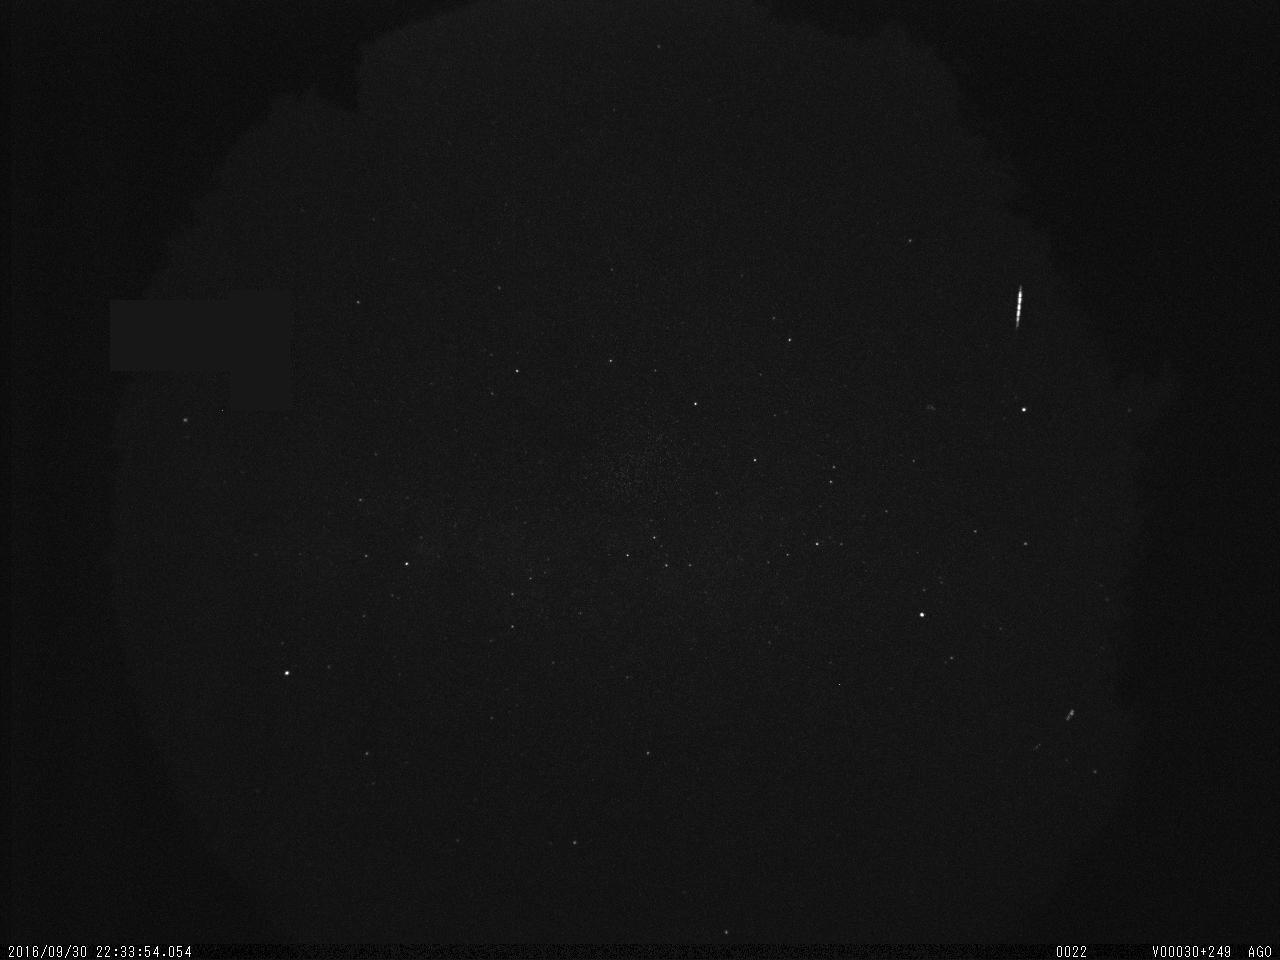meteor: (1007, 276, 1036, 338)
